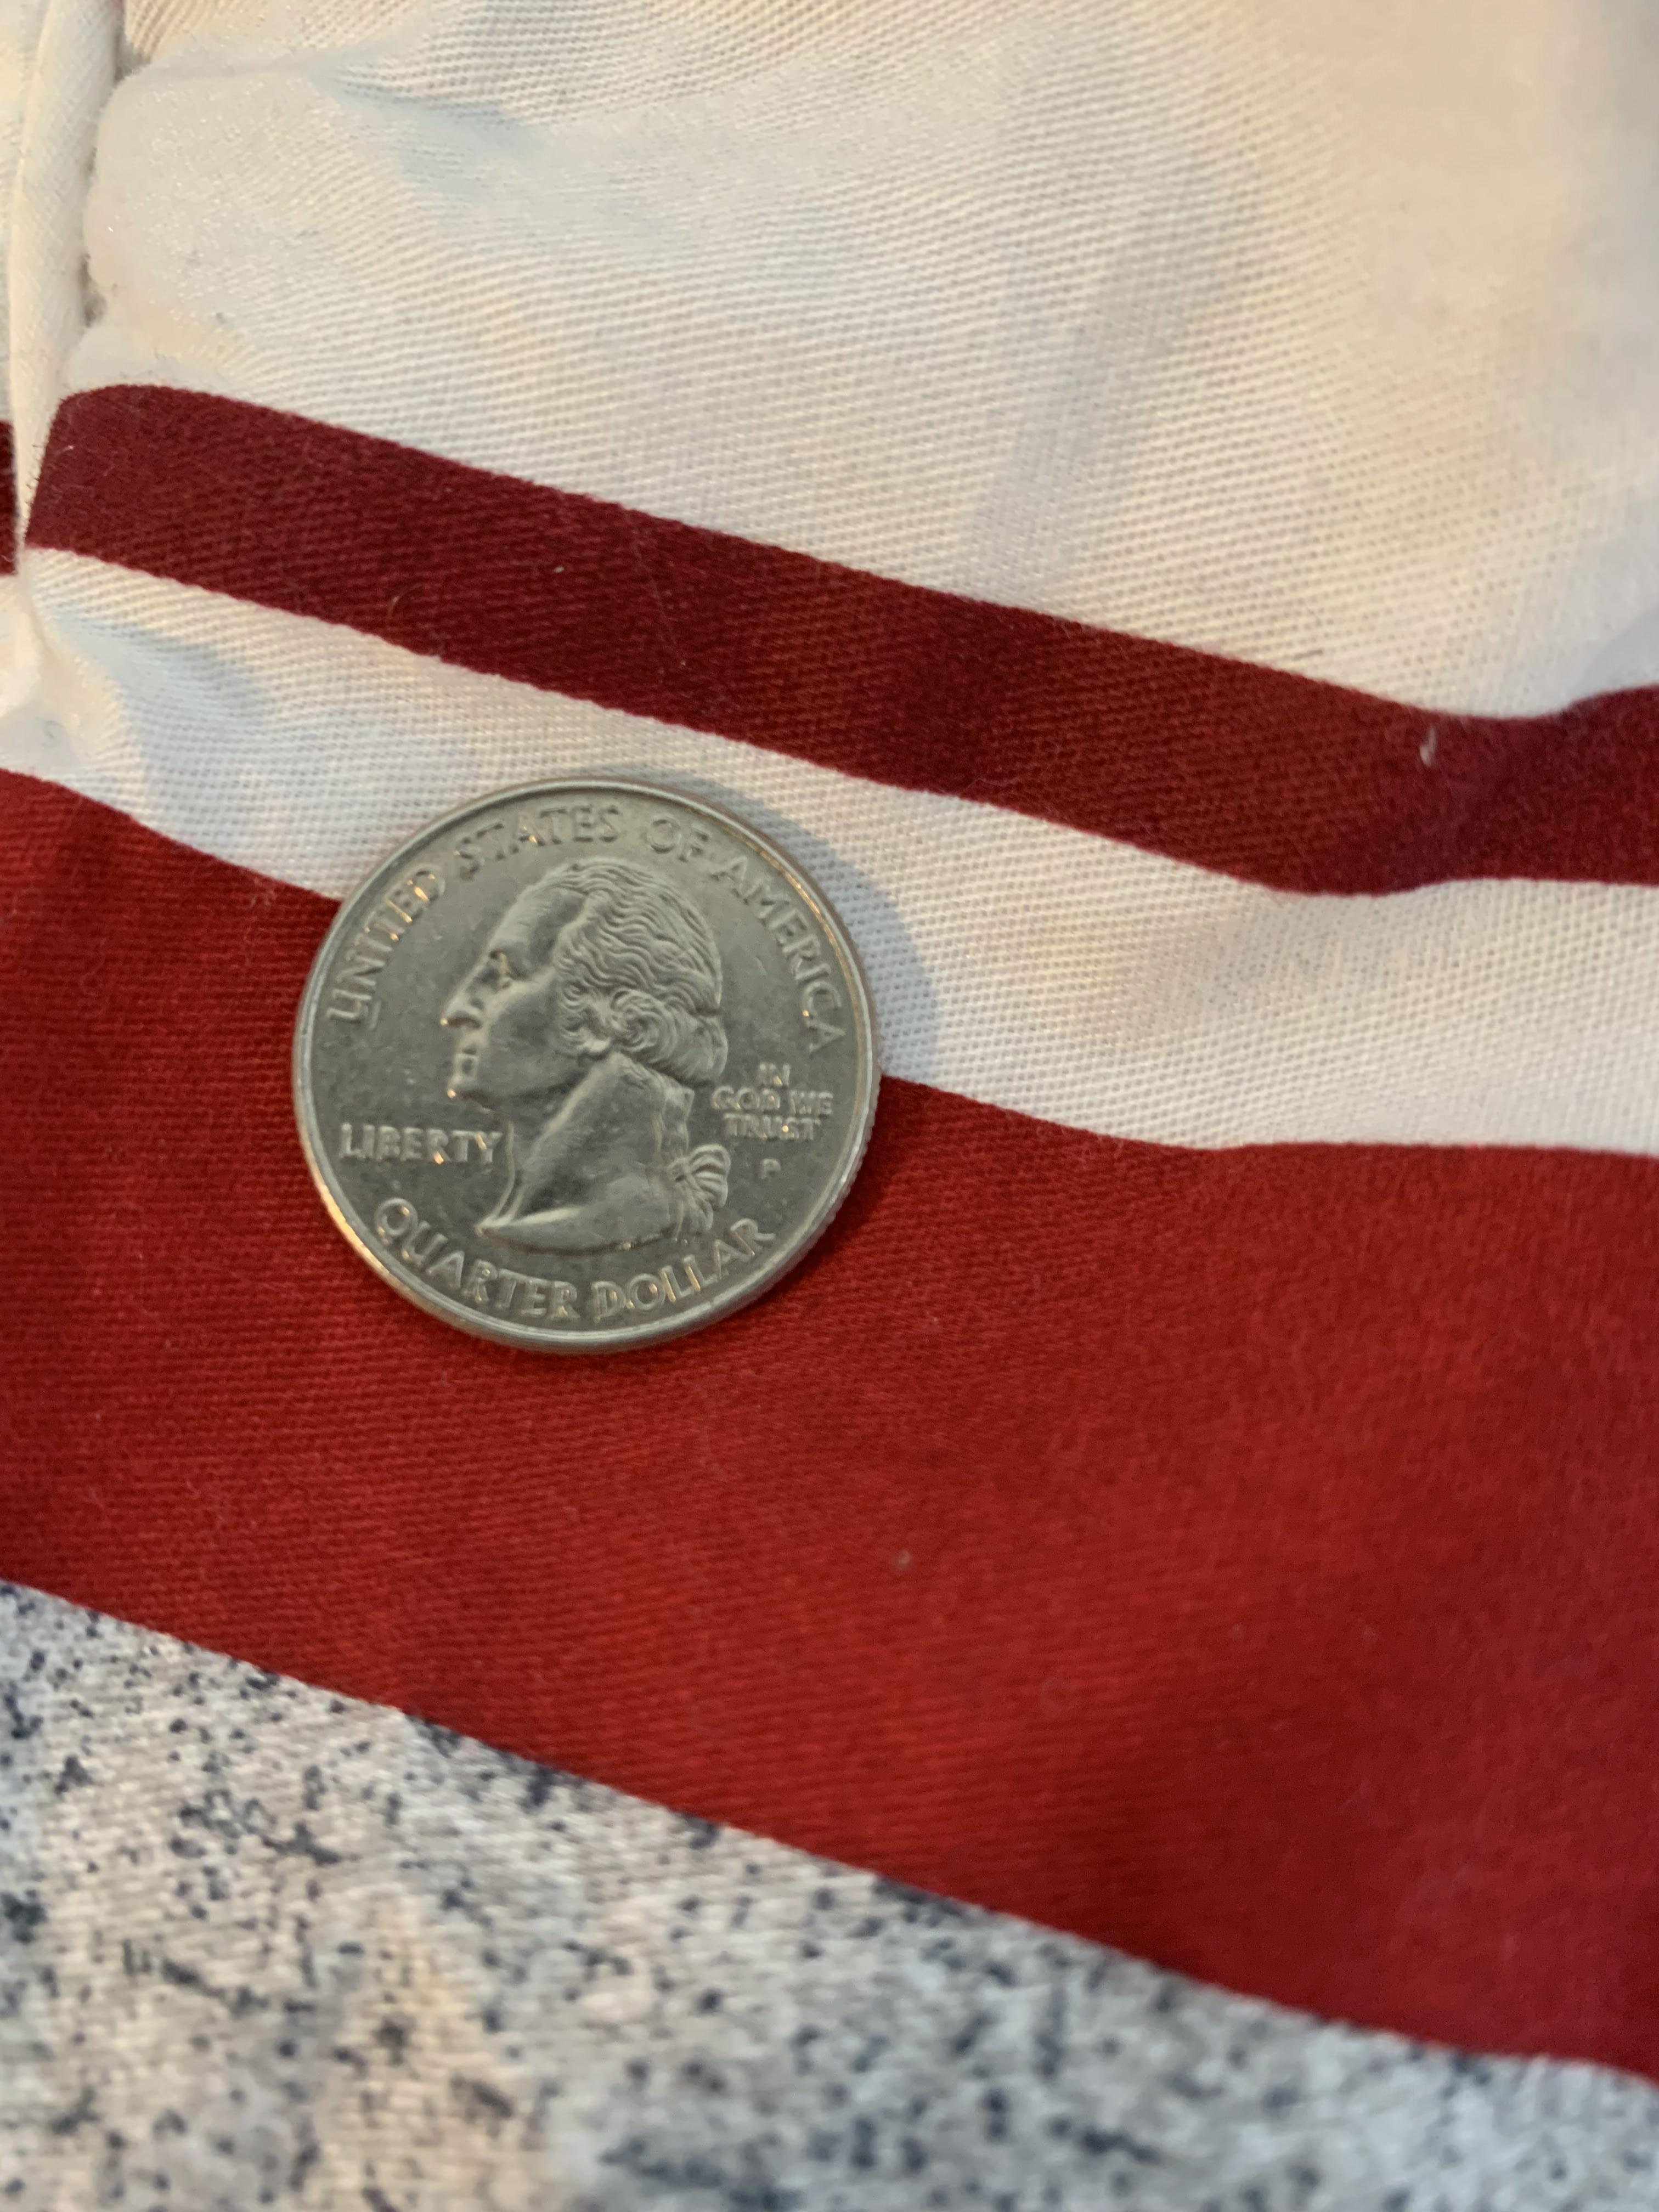Quarter: (263, 763, 911, 1371)
